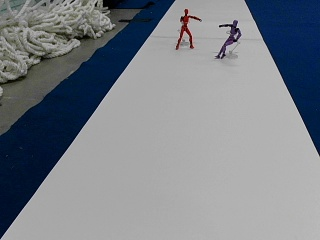pedestrian: (175, 8, 202, 49), (216, 18, 241, 58)
